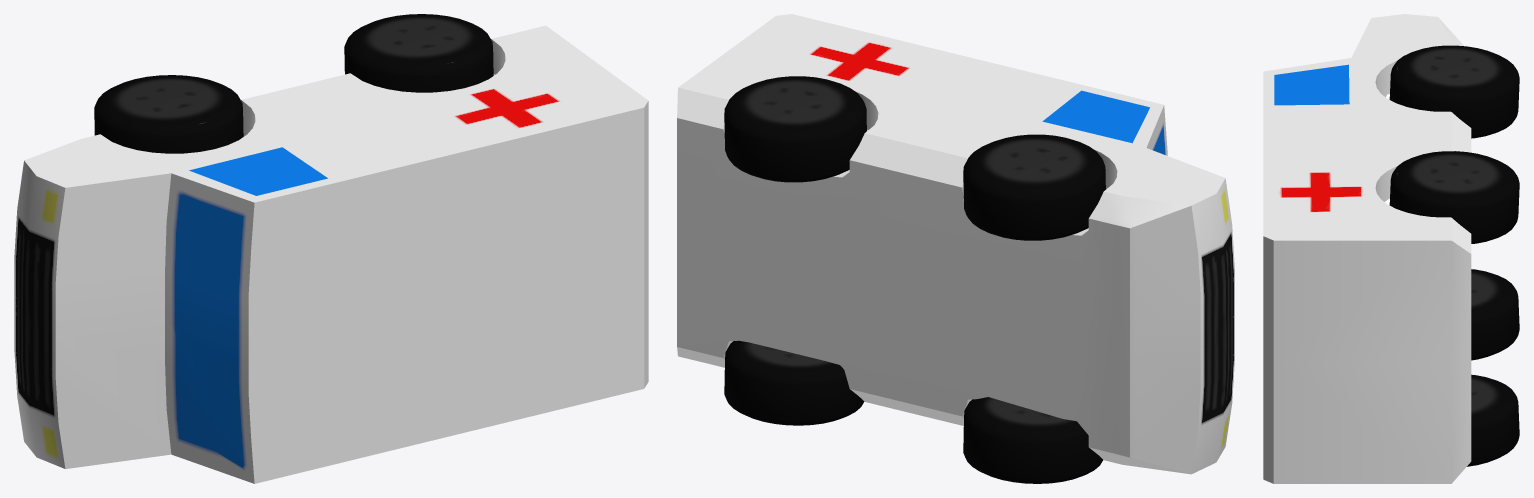
Rendered from ambulance.obj.
The picture shows the model from 3 angles, left to right: view 1: azimuth 30°, elevation 25°; view 2: azimuth 150°, elevation 25°; view 3: azimuth 270°, elevation 25°; orthographic projection. The views are drawn at different scales.
Size of the model in its own units: 6.55 by 3.65 by 3.08.
